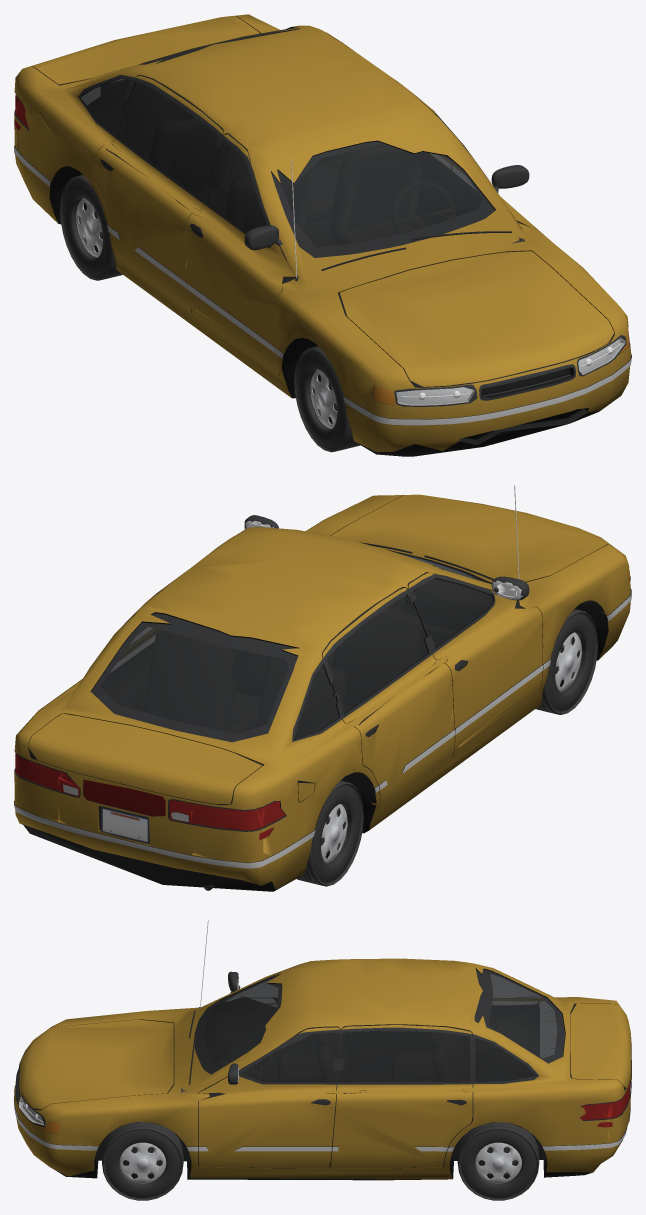
File: car_sedan_a.glb
3 renders of one model, top to bottom at view 1: azimuth 30°, elevation 25°; view 2: azimuth 150°, elevation 25°; view 3: azimuth 270°, elevation 25°, orthographic. The views are drawn at different scales.
Visible parts, largest first — view 1: body, wheel_FR, wheel_RR; view 2: body, wheel_RR, wheel_FR; view 3: body, wheel_FL, wheel_RL.
Part boxes in pixels (<box>): body: <box>14,14,631,456</box>; wheel_FR: <box>294,346,360,452</box>; wheel_RR: <box>60,175,122,280</box>; body: <box>14,485,631,891</box>; wheel_RR: <box>296,780,363,886</box>; wheel_FR: <box>535,609,597,714</box>; body: <box>14,920,631,1180</box>; wheel_FL: <box>102,1122,183,1200</box>; wheel_RL: <box>457,1122,539,1200</box>.
Bounding box in the file's own units: 1.81 × 1.57 × 4.55.
Materials: 12 (1 with a texture image).
